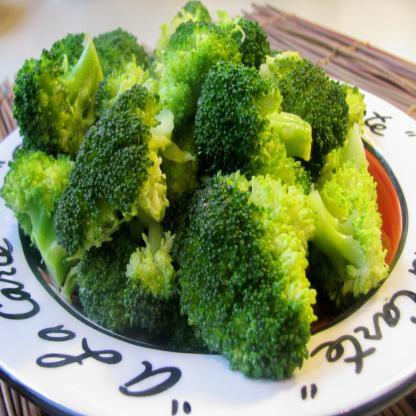broccoli: (0, 0, 391, 380)
